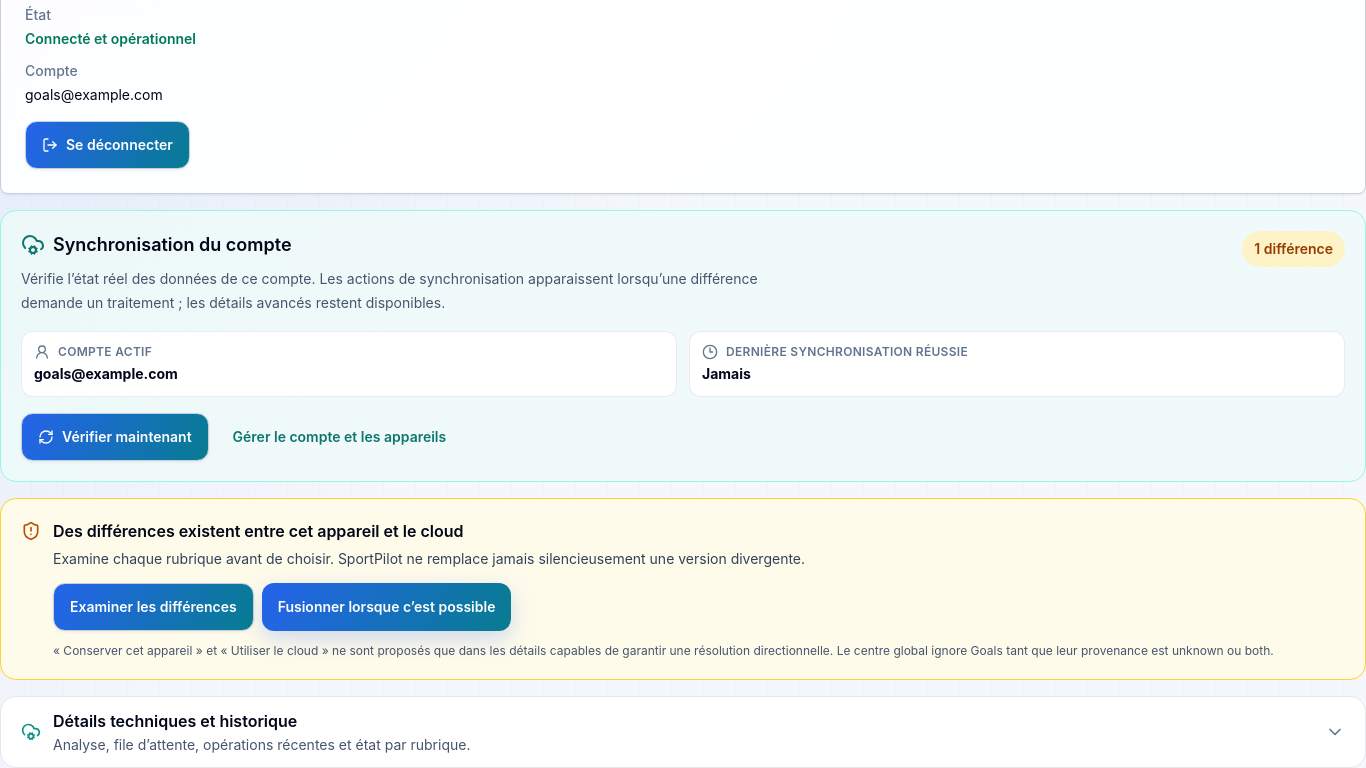
it: /settings/sync-prototype — détail Goals réel › ouvre le détail Objectifs réel et expose unknown sans action directionnelle
(page scrolled)
Click the button "Examiner les différences" at (153, 607), box top-left (53, 583), bottom-right (254, 631)
(page scrolled)
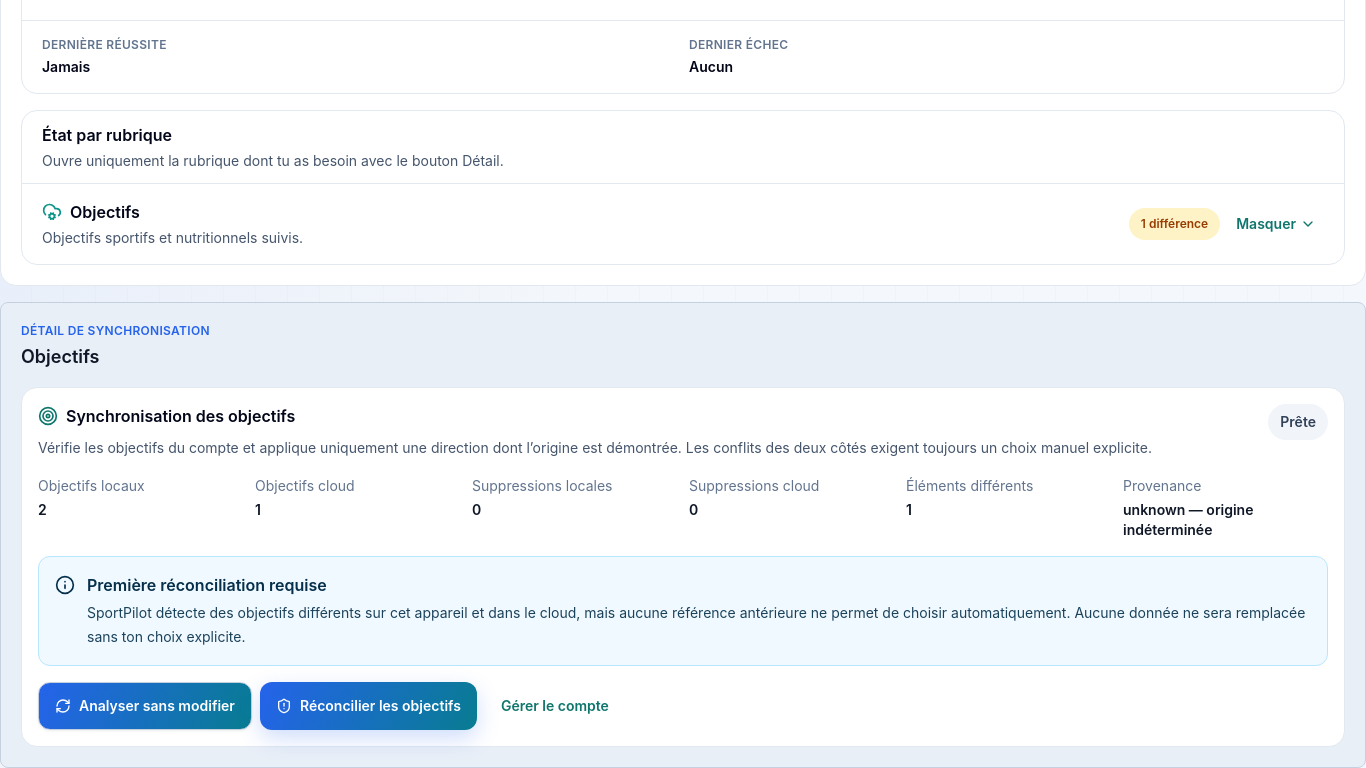
expect the heading "Objectifs" is shown: met, box top-left (21, 346), bottom-right (100, 367)
expect the text "unknown — origine indéterminée" is shown: met, box top-left (1123, 501), bottom-right (1254, 538)
expect the button "Réconcilier les objectifs" is shown: met, box top-left (260, 682), bottom-right (477, 730)
